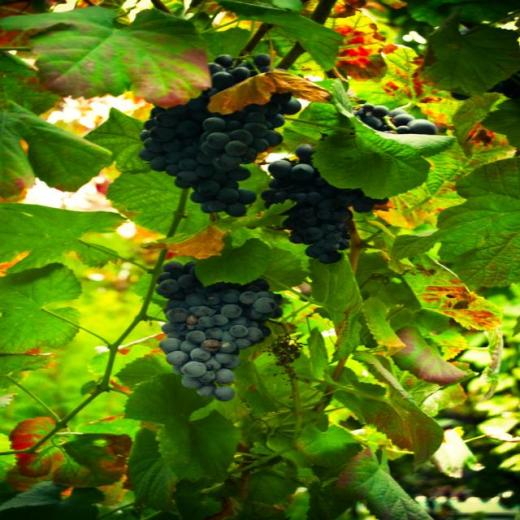Orange: (139, 54, 304, 217), (150, 260, 282, 399), (261, 143, 391, 263), (358, 101, 436, 134), (452, 92, 471, 100)
